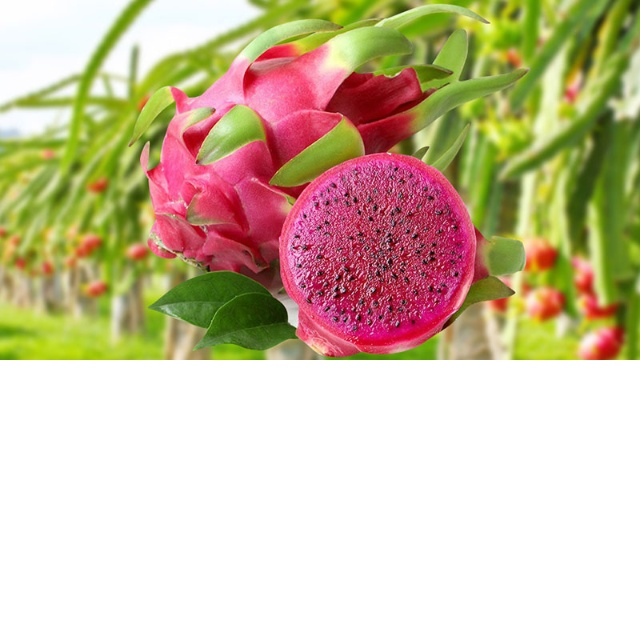tao: (128, 2, 443, 277)
